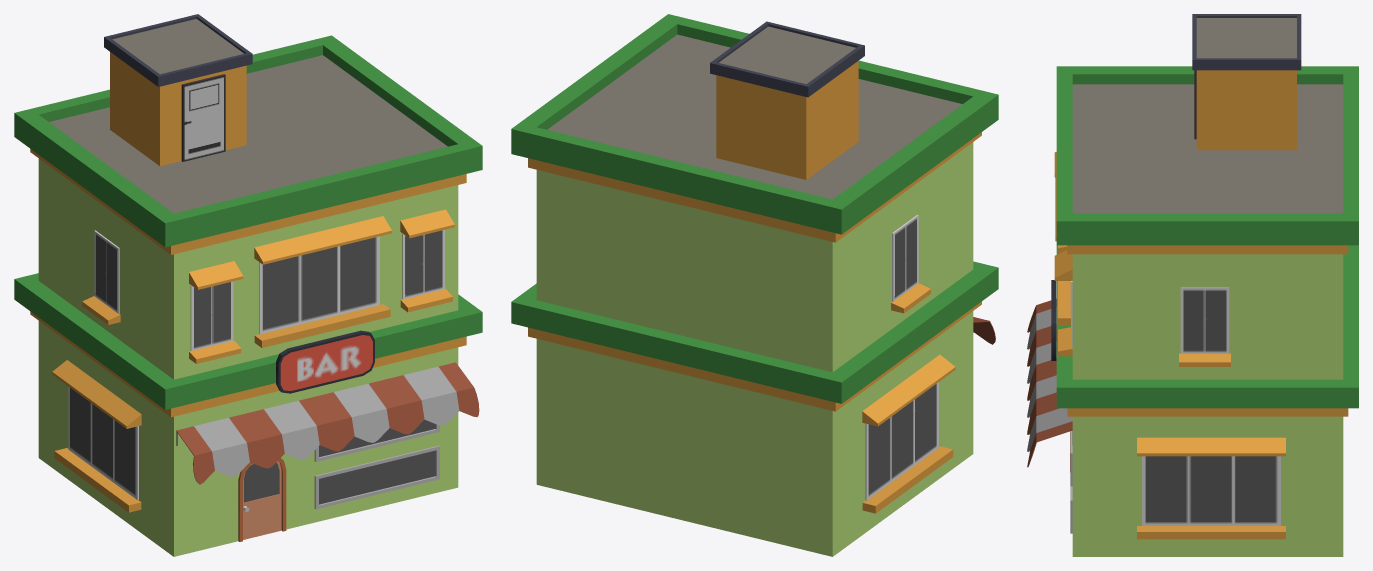
Rendered from bar01_color01.fbx.
The picture shows the model from 3 angles, left to right: view 1: azimuth 30°, elevation 25°; view 2: azimuth 150°, elevation 25°; view 3: azimuth 270°, elevation 25°; orthographic projection. The views are drawn at different scales.
Parts seen in each view (by area): view 1: bar01_color01; view 2: bar01_color01; view 3: bar01_color01.
Boxes of the visible parts, <box> form: bar01_color01: <box>14,14,482,556</box>; bar01_color01: <box>511,14,998,556</box>; bar01_color01: <box>1027,14,1358,556</box>.
Bounding box in the file's own units: 932 × 1193 × 842.
